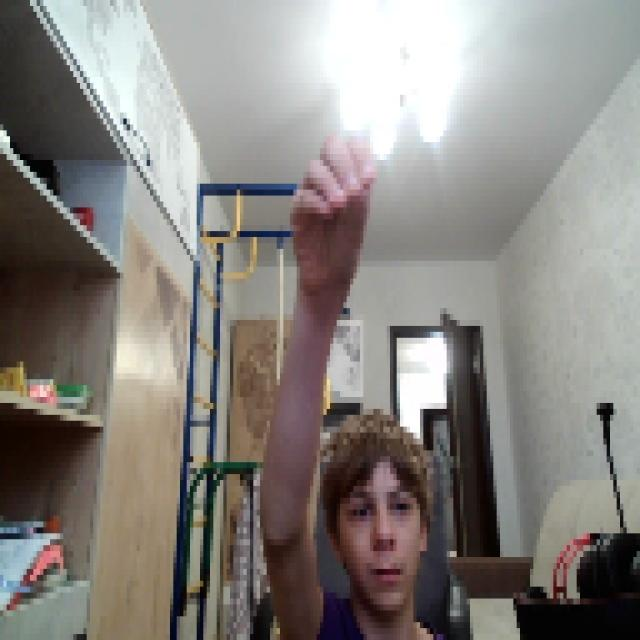left_click: (287, 124, 373, 284)
